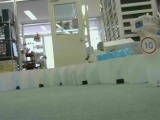speed_10: (139, 36, 157, 55)
